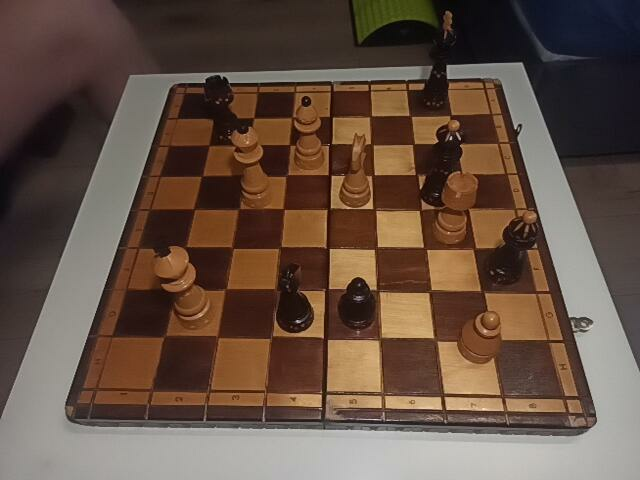B-Bishop: (489, 210, 540, 286)
B-King: (422, 10, 456, 108)
B-Knight: (277, 263, 314, 332)
B-Pawn: (339, 278, 378, 331)
B-Queen: (420, 118, 464, 208)
B-Rook: (203, 74, 244, 143)
W-Bishop: (293, 96, 326, 168)
W-King: (150, 239, 214, 329)
W-Knight: (339, 134, 372, 207)
W-Pawn: (459, 310, 504, 364)
W-Queen: (232, 123, 272, 205)
W-Rook: (432, 171, 479, 245)
